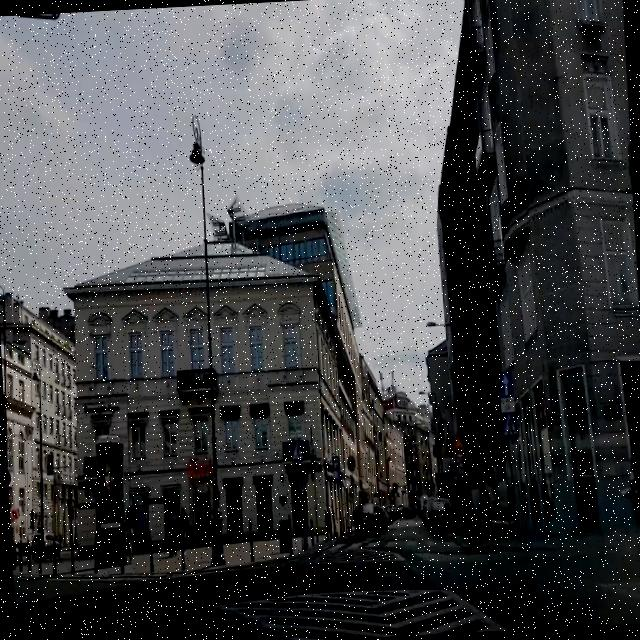Przejscie dla pieszych: (501, 410, 518, 440), (290, 438, 305, 464)
